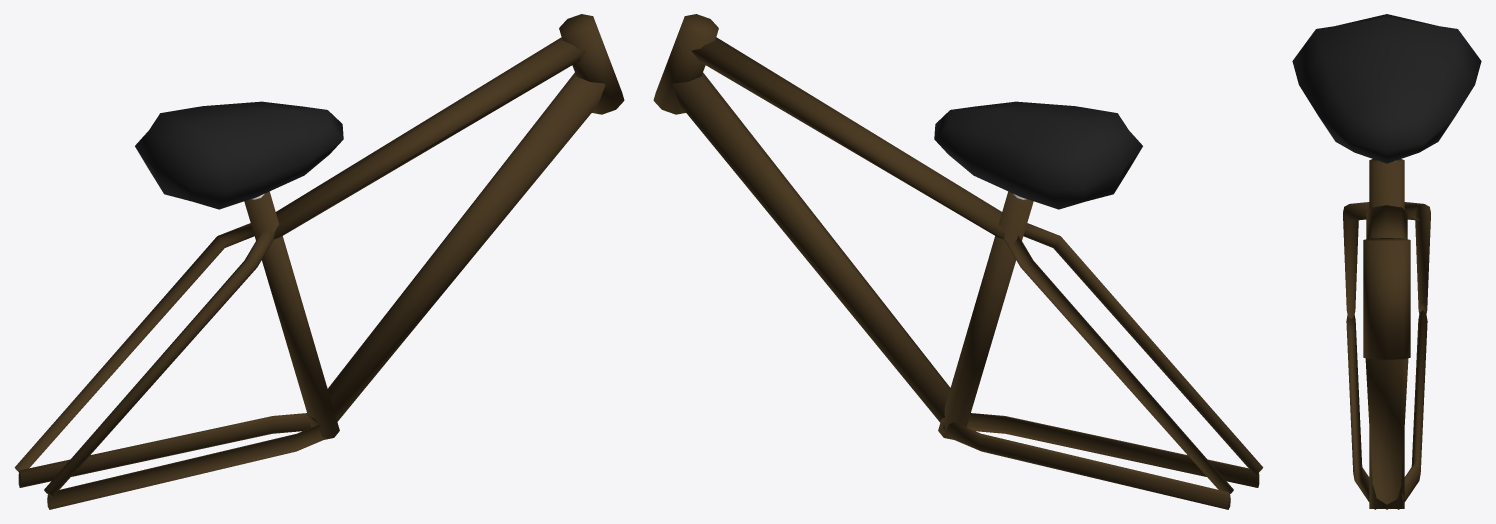
Rendered from frame.obj.
3 renders of one model, left to right at view 1: azimuth 30°, elevation 25°; view 2: azimuth 150°, elevation 25°; view 3: azimuth 270°, elevation 25°, orthographic. The views are drawn at different scales.
Visible parts, largest first — view 1: Cube_Cube.002, Cylinder.050_Cylinder.026, Cylinder.054_Cylinder.030, Cylinder.048_Cylinder.024, Cylinder.055_Cylinder.031, Cylinder.057_Cylinder.033, Cylinder.056_Cylinder.032, Cylinder.015_Cylinder.075, Cylinder.052_Cylinder.028; view 2: Cube_Cube.002, Cylinder.050_Cylinder.026, Cylinder.054_Cylinder.030, Cylinder.048_Cylinder.024, Cylinder.057_Cylinder.033, Cylinder.055_Cylinder.031, Cylinder.015_Cylinder.075, Cylinder.056_Cylinder.032, Cylinder.052_Cylinder.028; view 3: Cube_Cube.002, Cylinder.052_Cylinder.028, Cylinder.050_Cylinder.026, Cylinder.048_Cylinder.024, Cylinder.057_Cylinder.033, Cylinder.055_Cylinder.031, Cylinder.056_Cylinder.032, Cylinder.015_Cylinder.075, Cylinder.054_Cylinder.030.
Boxes of the visible parts, x1=… form: Cube_Cube.002: x1=135, y1=101, x2=343, y2=209; Cylinder.050_Cylinder.026: x1=307, y1=72, x2=605, y2=421; Cylinder.054_Cylinder.030: x1=274, y1=37, x2=586, y2=239; Cylinder.048_Cylinder.024: x1=244, y1=191, x2=339, y2=439; Cylinder.055_Cylinder.031: x1=47, y1=422, x2=334, y2=509; Cylinder.057_Cylinder.033: x1=18, y1=413, x2=311, y2=487; Cylinder.056_Cylinder.032: x1=44, y1=230, x2=274, y2=497; Cylinder.015_Cylinder.075: x1=14, y1=223, x2=254, y2=473; Cylinder.052_Cylinder.028: x1=559, y1=14, x2=624, y2=114; Cube_Cube.002: x1=934, y1=101, x2=1142, y2=209; Cylinder.050_Cylinder.026: x1=672, y1=72, x2=971, y2=422; Cylinder.054_Cylinder.030: x1=691, y1=37, x2=1004, y2=239; Cylinder.048_Cylinder.024: x1=938, y1=191, x2=1033, y2=439; Cylinder.057_Cylinder.033: x1=943, y1=422, x2=1230, y2=509; Cylinder.055_Cylinder.031: x1=966, y1=413, x2=1259, y2=487; Cylinder.015_Cylinder.075: x1=1003, y1=233, x2=1233, y2=493; Cylinder.056_Cylinder.032: x1=1023, y1=223, x2=1263, y2=475; Cylinder.052_Cylinder.028: x1=653, y1=14, x2=718, y2=114; Cube_Cube.002: x1=1292, y1=14, x2=1481, y2=163; Cylinder.052_Cylinder.028: x1=1363, y1=238, x2=1410, y2=359; Cylinder.050_Cylinder.026: x1=1365, y1=358, x2=1408, y2=509; Cylinder.048_Cylinder.024: x1=1369, y1=159, x2=1404, y2=509; Cylinder.057_Cylinder.033: x1=1398, y1=310, x2=1427, y2=509; Cylinder.055_Cylinder.031: x1=1346, y1=315, x2=1375, y2=509; Cylinder.056_Cylinder.032: x1=1343, y1=202, x2=1369, y2=318; Cylinder.015_Cylinder.075: x1=1404, y1=202, x2=1430, y2=313; Cylinder.054_Cylinder.030: x1=1366, y1=205, x2=1407, y2=239.
Size of the model in its own units: 3.49 by 1.98 by 0.8.
